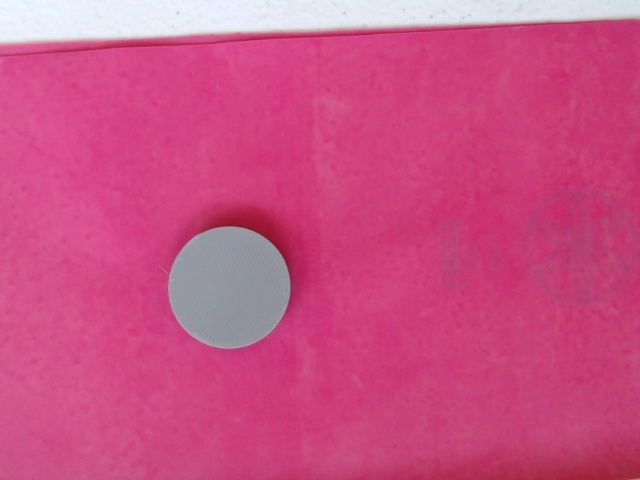NonDefective: (166, 224, 293, 351)
